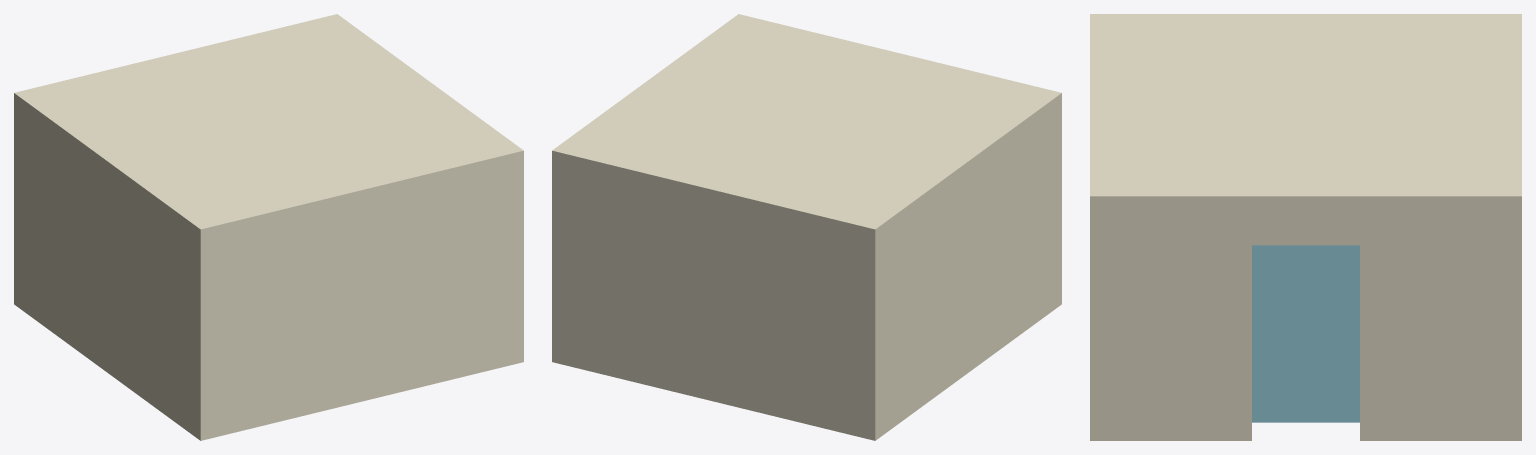
Rendered from building_042.dae.
3 views of the same model, side by side, from view 1: azimuth 30°, elevation 25°; view 2: azimuth 150°, elevation 25°; view 3: azimuth 270°, elevation 25° (orthographic). The views are drawn at different scales.
Parts seen in each view (by area): view 1: building_042; view 2: building_042; view 3: building_042.
Part boxes in pixels (bbox=[...]): building_042: bbox=[14, 14, 523, 440]; building_042: bbox=[552, 14, 1061, 440]; building_042: bbox=[1090, 14, 1521, 440].
Bounding box in the file's own units: 1 × 0.625 × 1.
